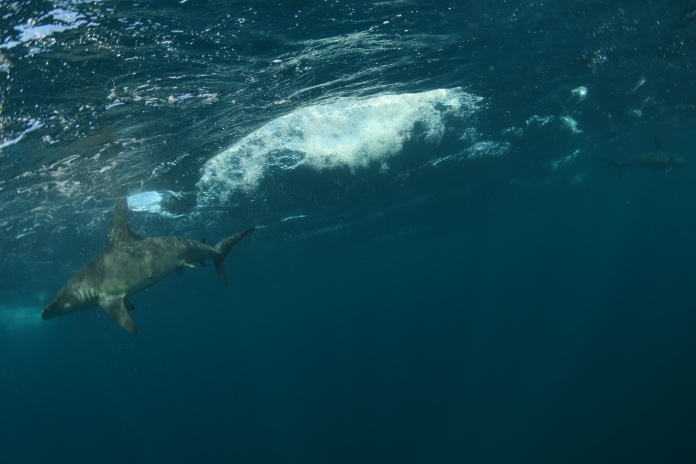Hammer: (38, 190, 270, 341)
